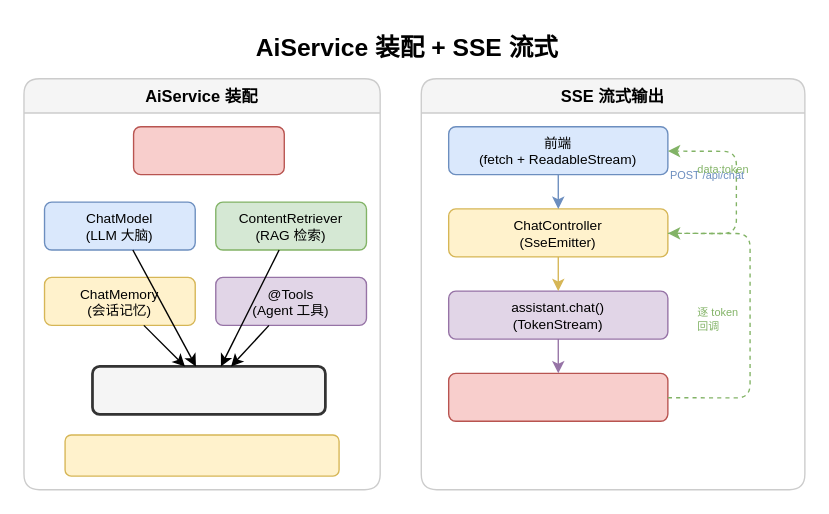
This 829x514 diagram has some shape labels left out. The centre of each missing label's shape, as x and y in pixels:
@SystemMessage (人设/角色): [208,150]
GeoSmartAssistant (AiServices.build()): [208,389]
LLM API (StreamingChatModel): [557,396]
自动组装 Prompt： System + 检索结果 + 历史 + 用户问题: [201,455]
